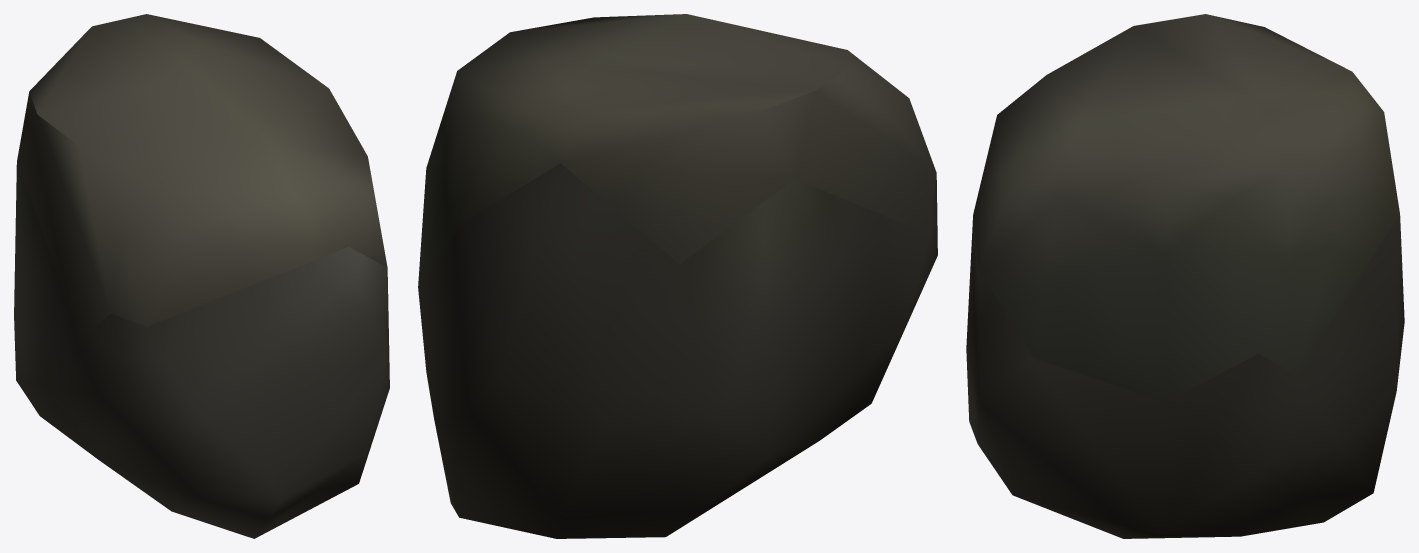
3 views of the same model, side by side, from view 1: azimuth 30°, elevation 25°; view 2: azimuth 150°, elevation 25°; view 3: azimuth 270°, elevation 25° (orthographic). The views are drawn at different scales.
Visible parts, largest first — view 1: smallrock2; view 2: smallrock2; view 3: smallrock2.
Boxes of the visible parts, x1=… form: smallrock2: x1=14, y1=14, x2=389, y2=538; smallrock2: x1=418, y1=14, x2=937, y2=538; smallrock2: x1=966, y1=14, x2=1404, y2=538.
Bounding box in the file's own units: 0.5546 × 0.6303 × 0.6137.
1 material, 1 textured.
